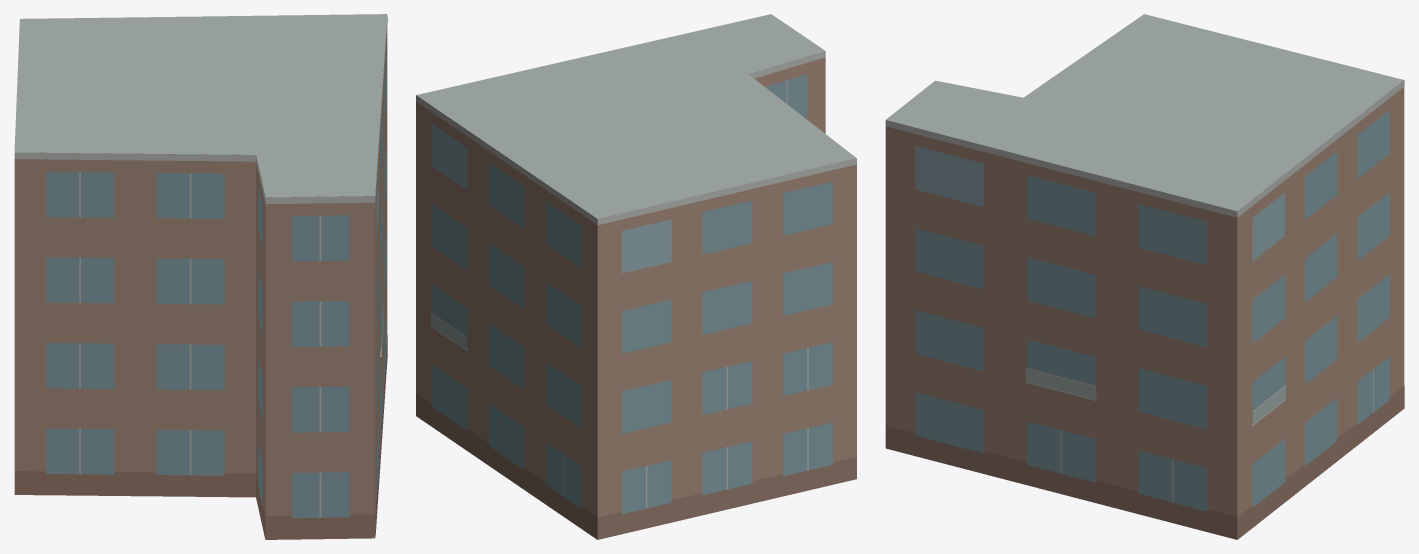
The model's file is survey-upis-32668509.glb.
3 renders of one model, left to right at view 1: azimuth 30°, elevation 25°; view 2: azimuth 150°, elevation 25°; view 3: azimuth 270°, elevation 25°, orthographic. The views are drawn at different scales.
Parts seen in each view (by area): view 1: survey-upis-32668509.tmp; view 2: survey-upis-32668509.tmp; view 3: survey-upis-32668509.tmp.
Boxes of the visible parts, box(x1,y1,x2,y2) form: survey-upis-32668509.tmp: box(14, 14, 387, 539); survey-upis-32668509.tmp: box(416, 14, 856, 539); survey-upis-32668509.tmp: box(885, 14, 1404, 539).
Bounding box in the file's own units: 16.12 × 12.5 × 17.9.
